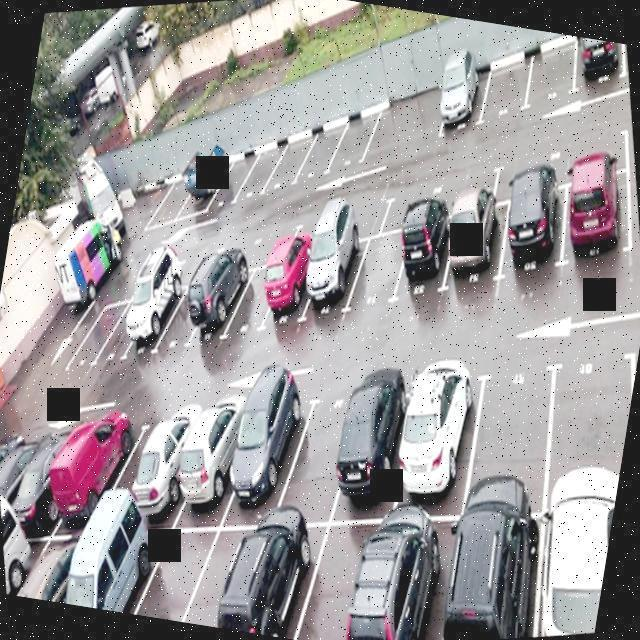space-empty: (257, 367, 372, 537), (456, 354, 565, 515), (534, 343, 639, 499), (170, 508, 287, 636), (114, 508, 232, 627), (492, 112, 636, 206), (380, 142, 504, 232), (85, 405, 178, 518), (79, 273, 168, 383), (56, 283, 143, 384), (115, 230, 215, 305), (288, 187, 389, 257), (340, 224, 414, 318), (469, 52, 544, 139), (221, 257, 290, 351), (153, 270, 223, 358), (516, 35, 587, 118), (213, 212, 301, 272), (292, 111, 355, 188), (203, 143, 265, 217), (323, 107, 385, 178), (231, 141, 288, 207), (263, 128, 319, 191)
space-occupied: (312, 358, 431, 527), (383, 353, 494, 517), (434, 501, 557, 640), (211, 375, 322, 524), (49, 496, 176, 619), (358, 506, 472, 640), (280, 509, 395, 640), (222, 508, 335, 640), (42, 401, 147, 533), (169, 390, 267, 528), (117, 401, 215, 537), (521, 497, 614, 640), (2, 419, 91, 540), (550, 170, 640, 287), (490, 183, 576, 289), (13, 526, 119, 610), (435, 201, 521, 300), (387, 196, 465, 300), (115, 270, 197, 368), (298, 230, 377, 330), (256, 238, 330, 337), (184, 257, 258, 352), (428, 63, 496, 150), (564, 36, 637, 103)
